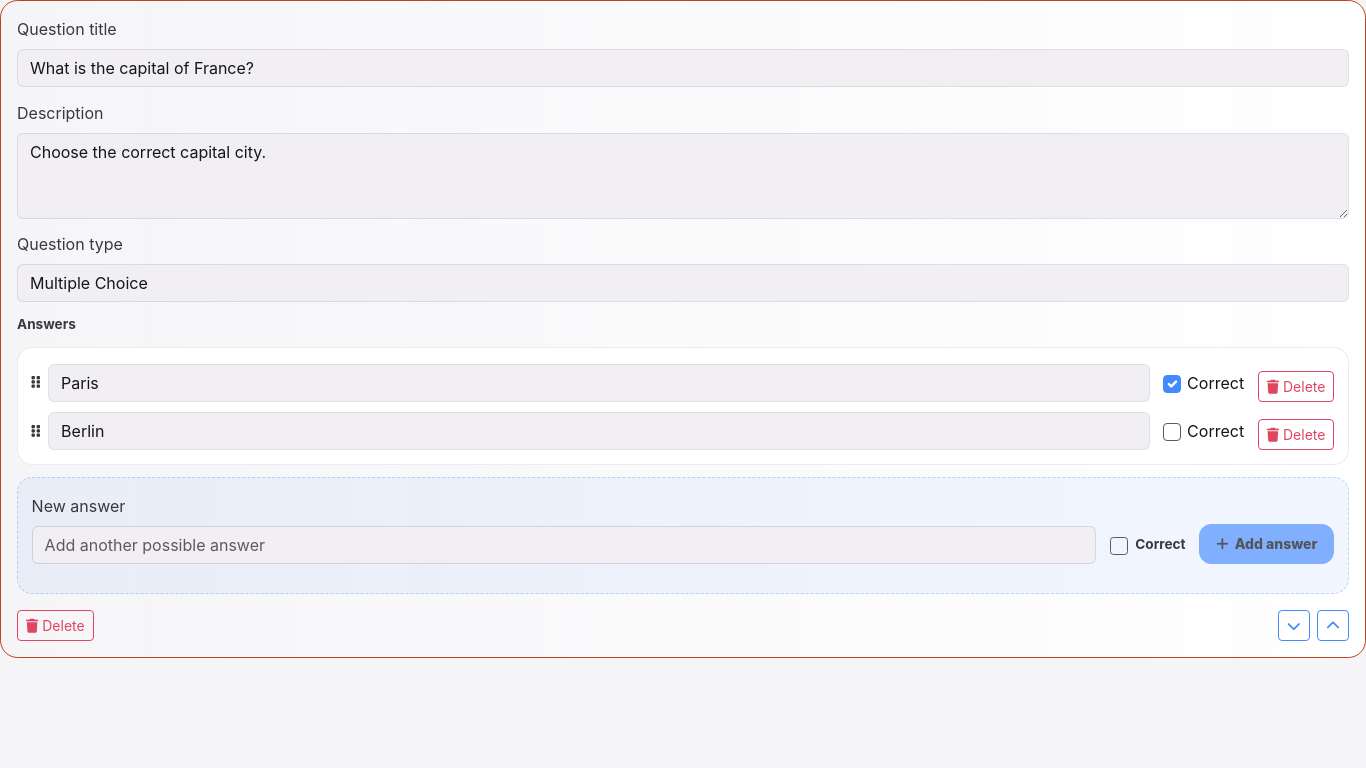
Scenario: QuestionCard › enables add answer button only when input has content
This screenshot has width=1366, height=768.
Expected: the button "Add answer" is disabled, [1199, 524, 1334, 564]
Type "Paris" into the field with placeholder "Add another possible answer" at (564, 545), box [32, 526, 1096, 564]
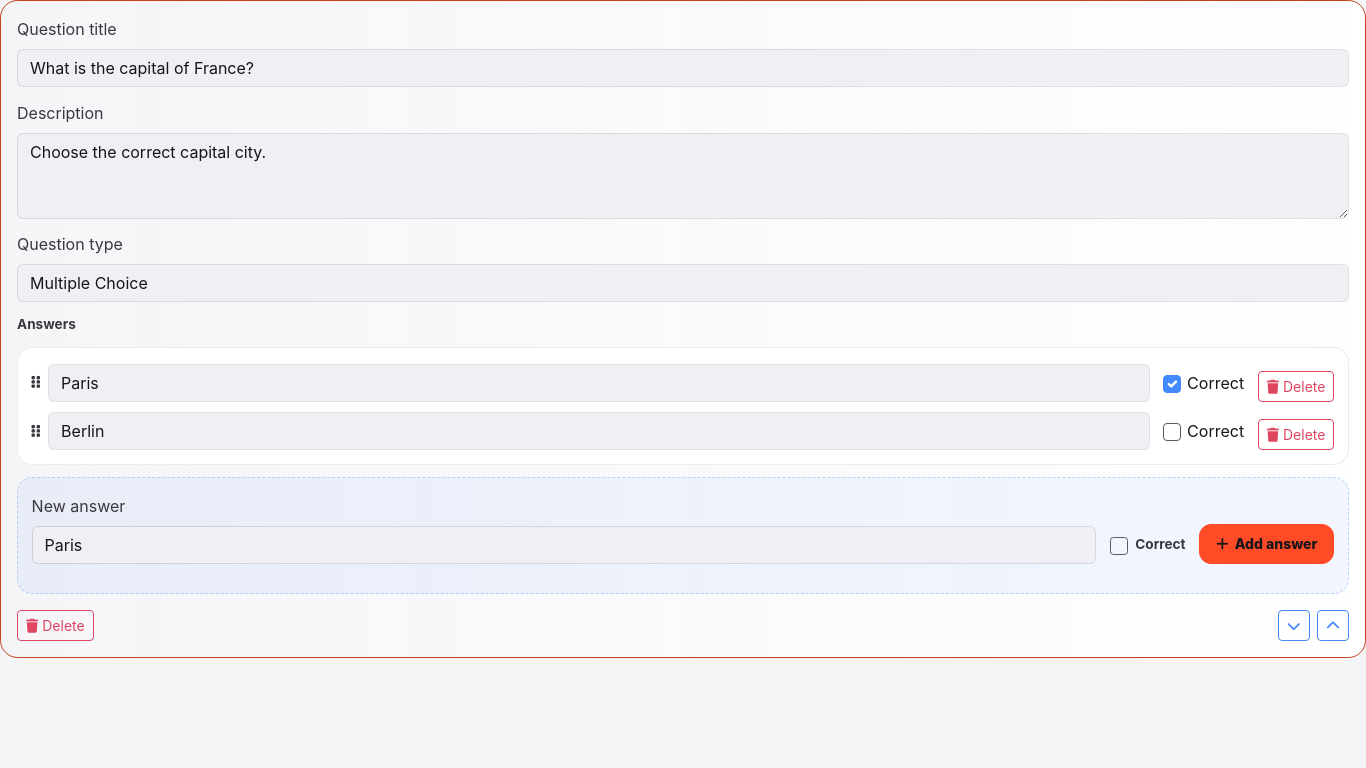
Expected: the button "Add answer" is enabled, [1199, 524, 1334, 564]
